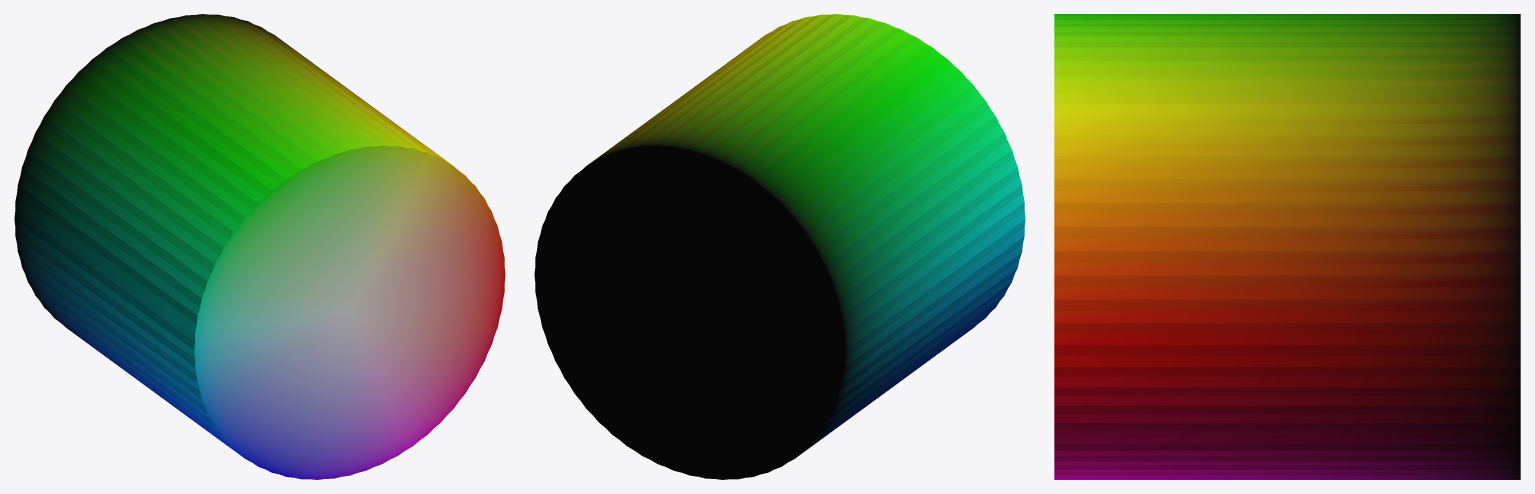
The model's file is HSVCylinder.obj.
3 views of the same model, side by side, from view 1: azimuth 30°, elevation 25°; view 2: azimuth 150°, elevation 25°; view 3: azimuth 270°, elevation 25° (orthographic). The views are drawn at different scales.
Size of the model in its own units: 2 by 2 by 2.
